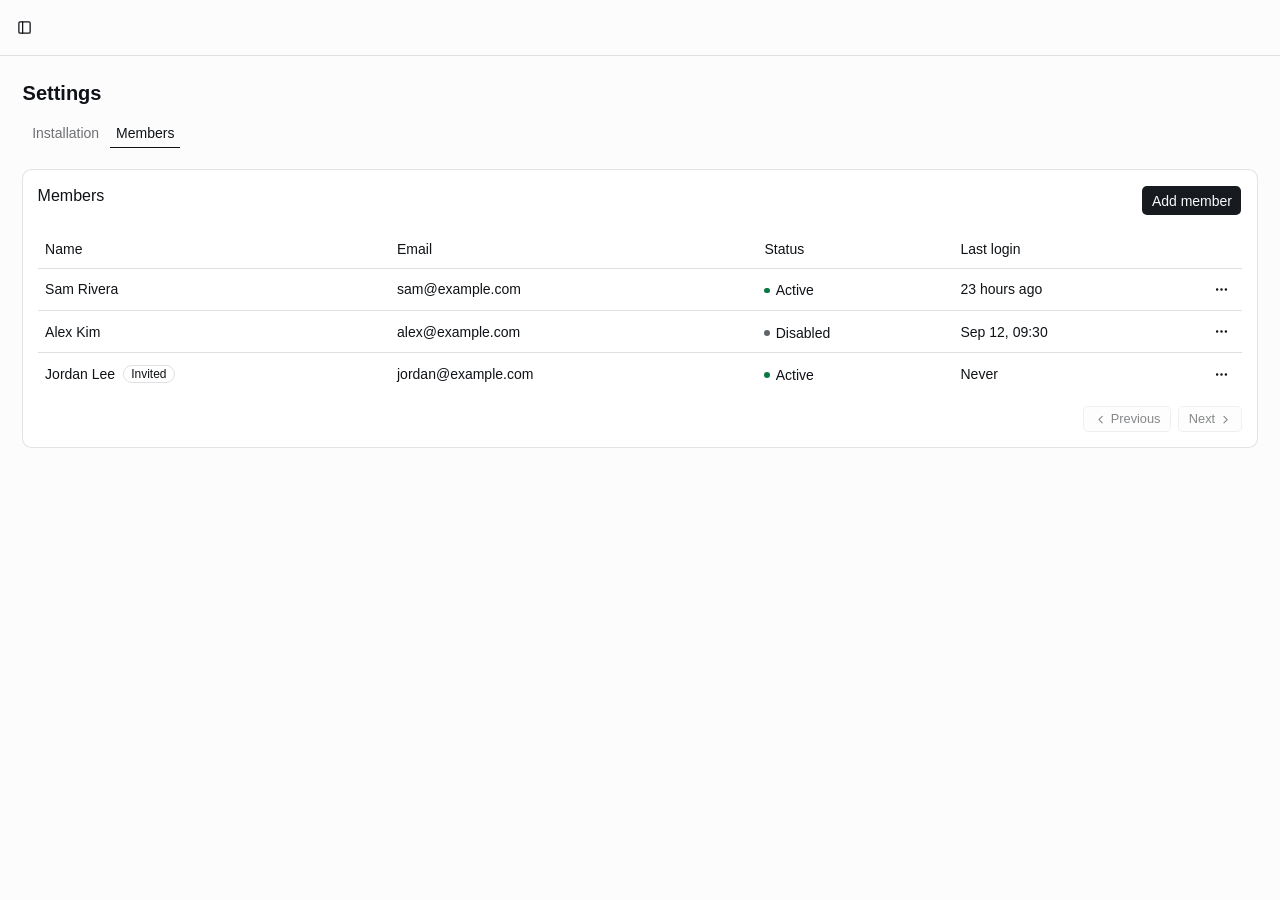
it: removing a member refreshes the list
Click the button named "Row actions" in the row of "Jordan Lee": [1222, 374] box [1209, 361, 1235, 387]
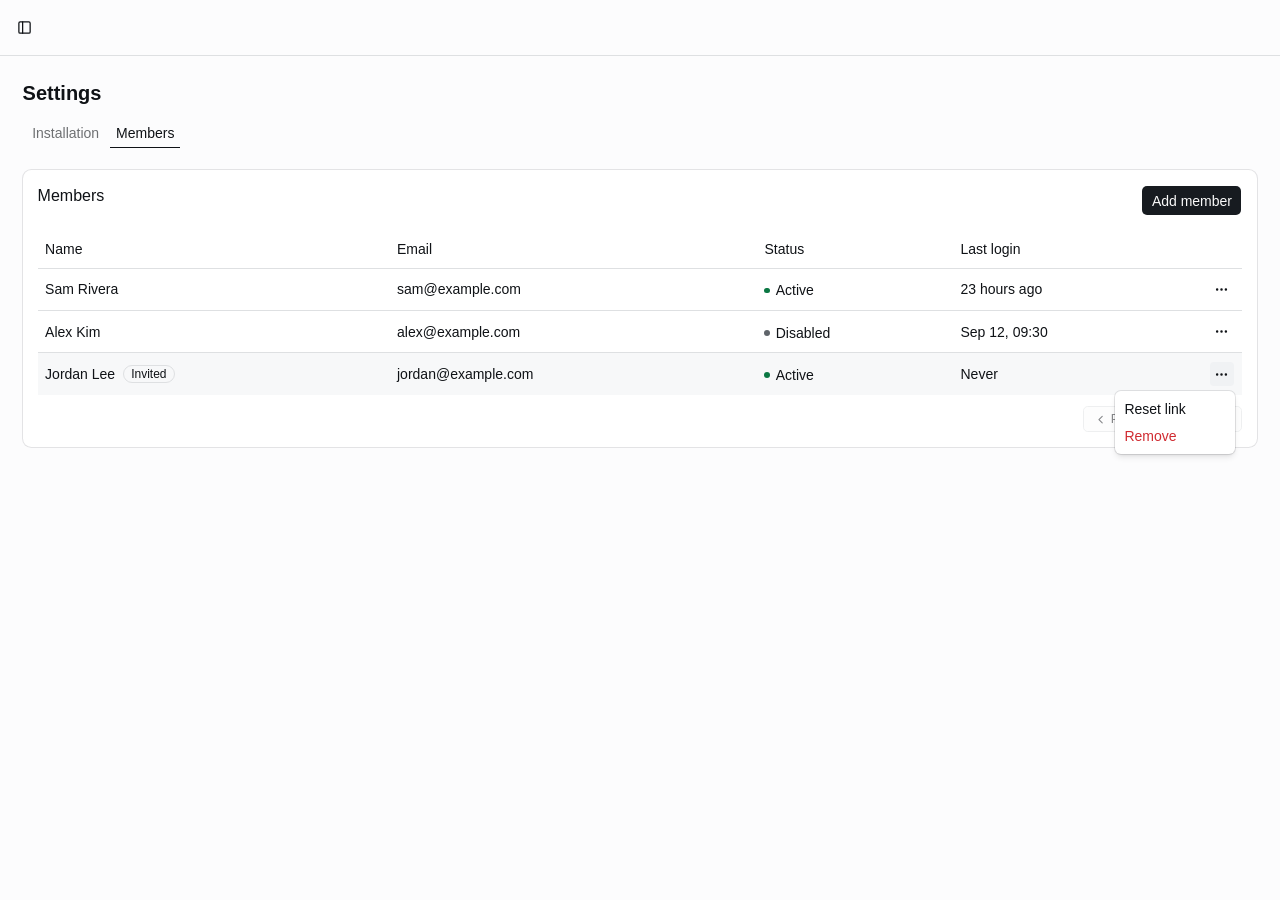
Click the menu item "Remove": [1150, 436] box [1124, 428, 1176, 444]
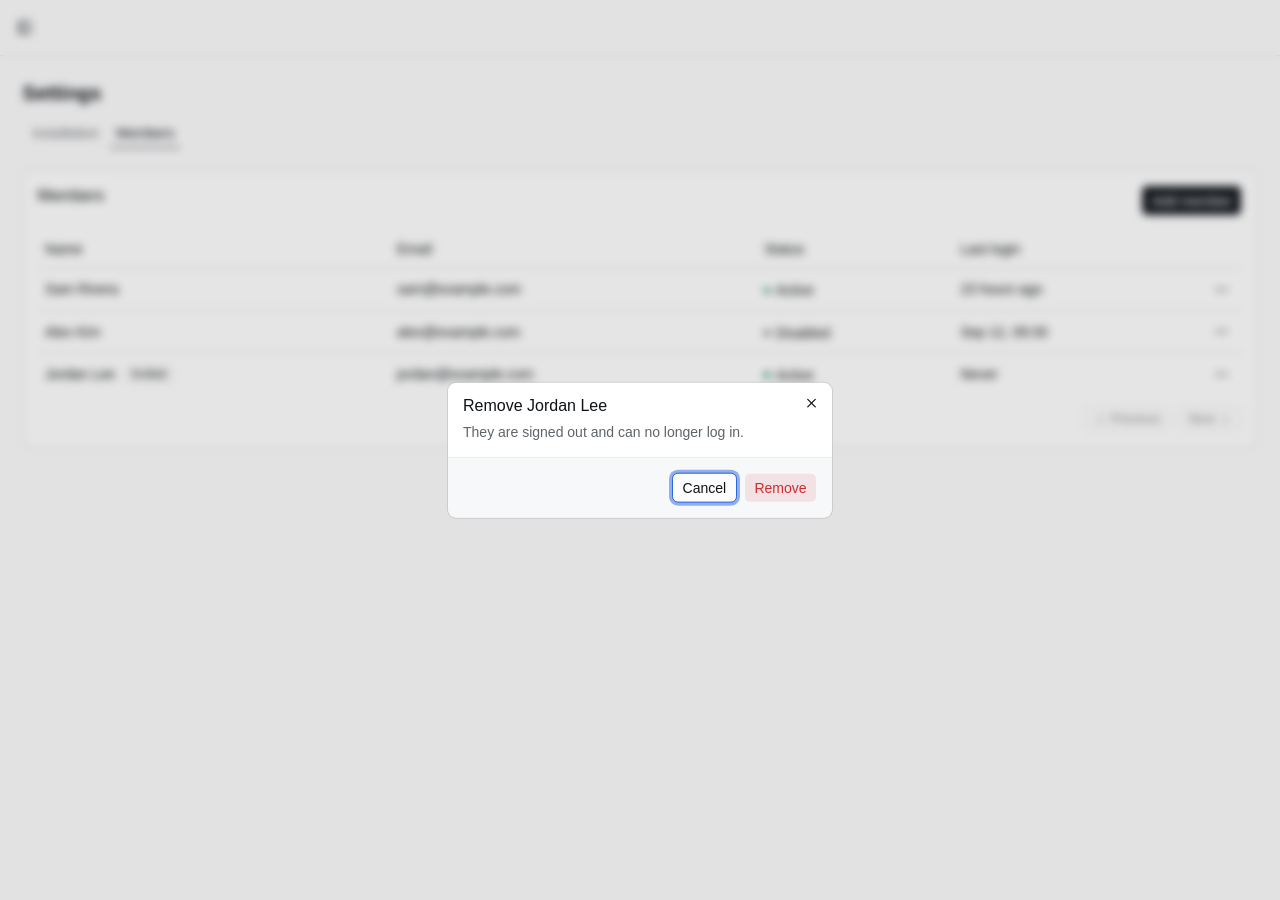
Click the button "Remove": [780, 487] box [744, 472, 817, 502]
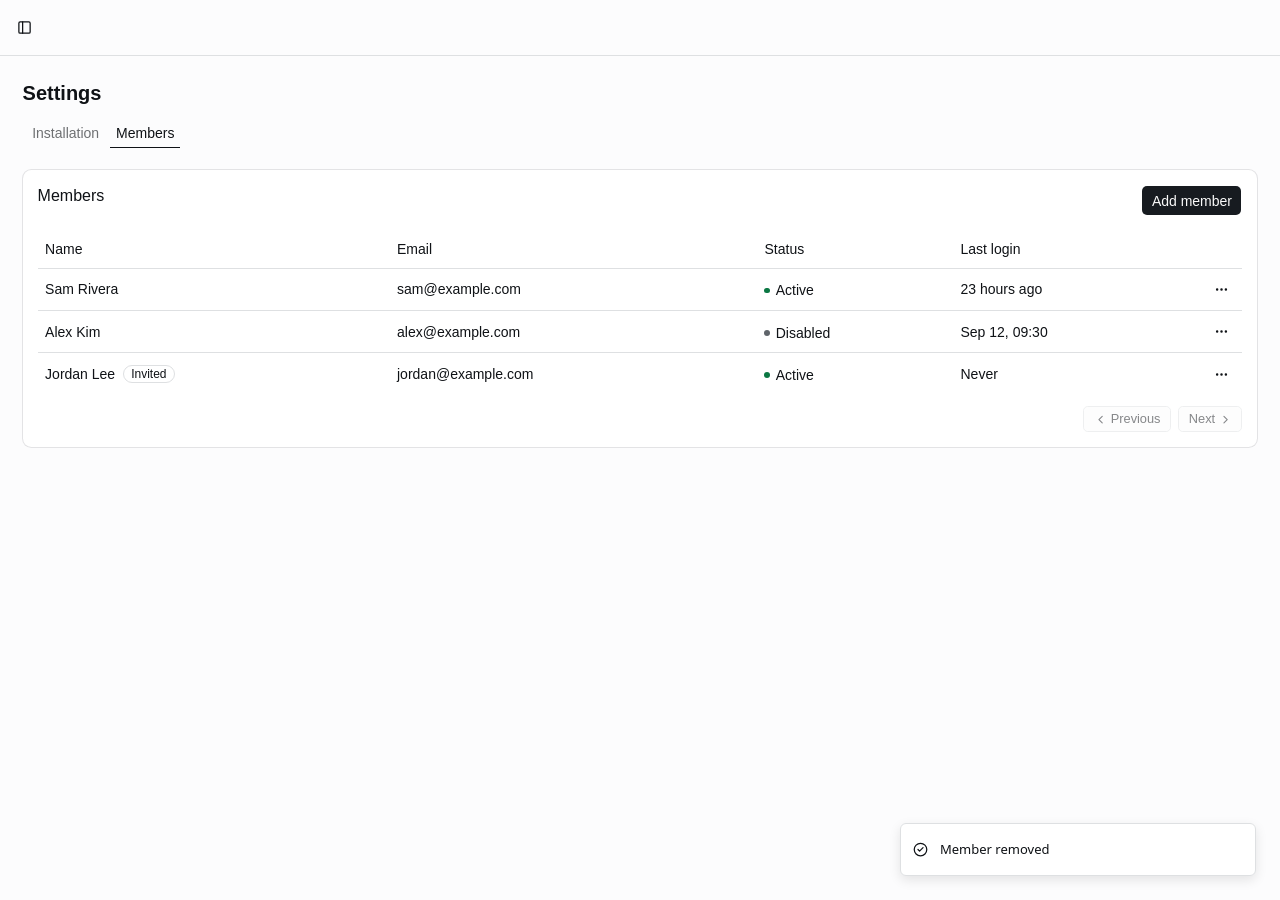
Expected: the text "Member removed" is shown, [940, 840, 1050, 859]
Expected: the dialog is gone
